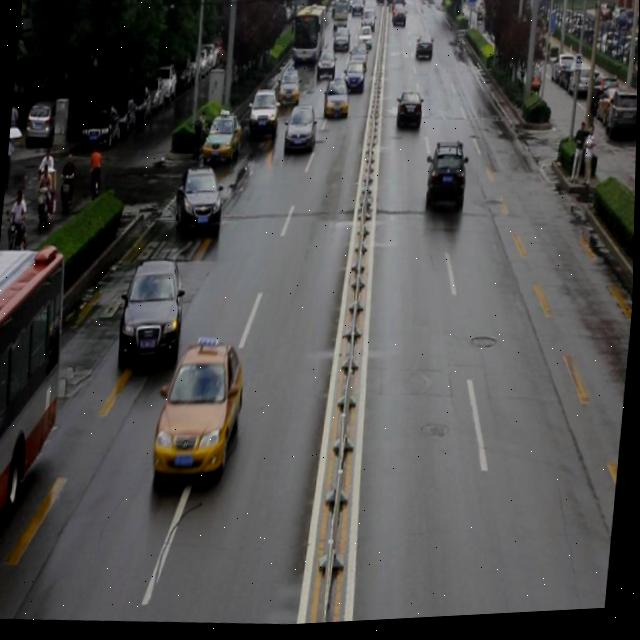car: (154, 323, 250, 481), (121, 250, 188, 364), (173, 165, 225, 239), (424, 136, 469, 218), (203, 108, 244, 166), (284, 103, 319, 157), (248, 90, 280, 142), (321, 79, 351, 123), (396, 93, 424, 134), (277, 68, 302, 108), (343, 64, 365, 97)
van: (0, 244, 73, 567)
